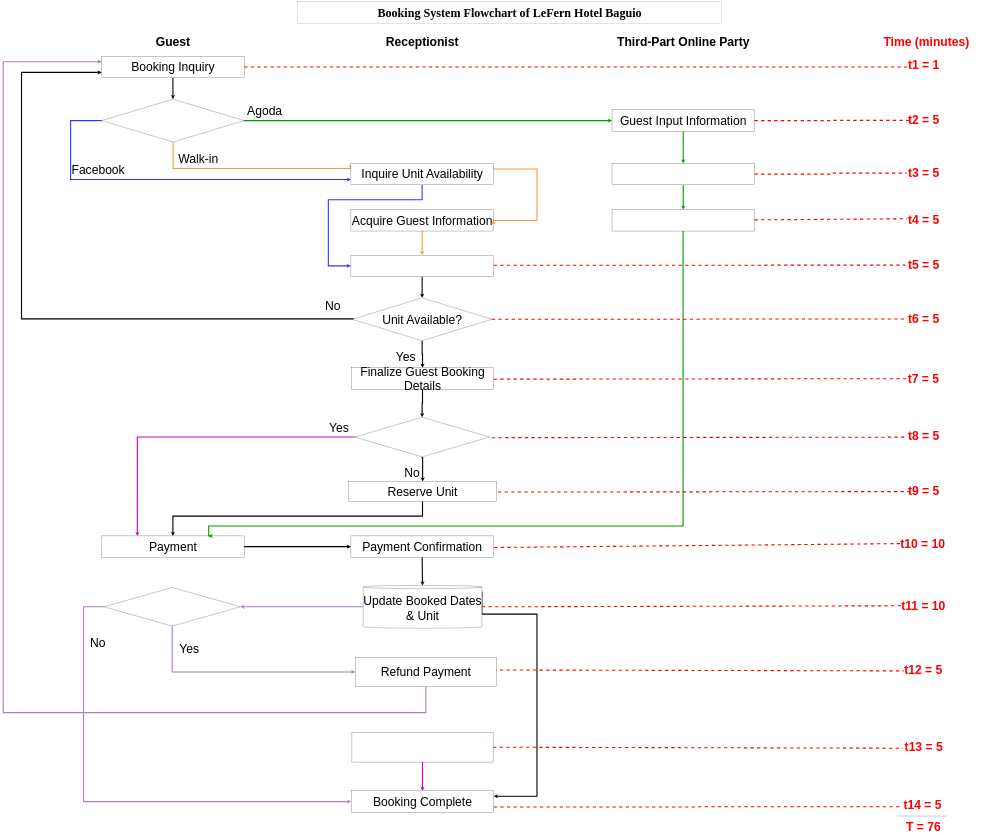
Image size: 999x837. Some labels were removed from this diagram. Here are the shapes that lost their labels. From the top down, the centre of each, then its label:
the point at 173,120: Booking Method
the point at 683,174: Select Desired Unit
the point at 683,220: Guest Finalize Details
the point at 422,266: Collect Guest Inquiry Information
the point at 422,437: Guest check in today?
the point at 172,606: Guest Cancels?
the point at 422,747: Hands keycard to customer
